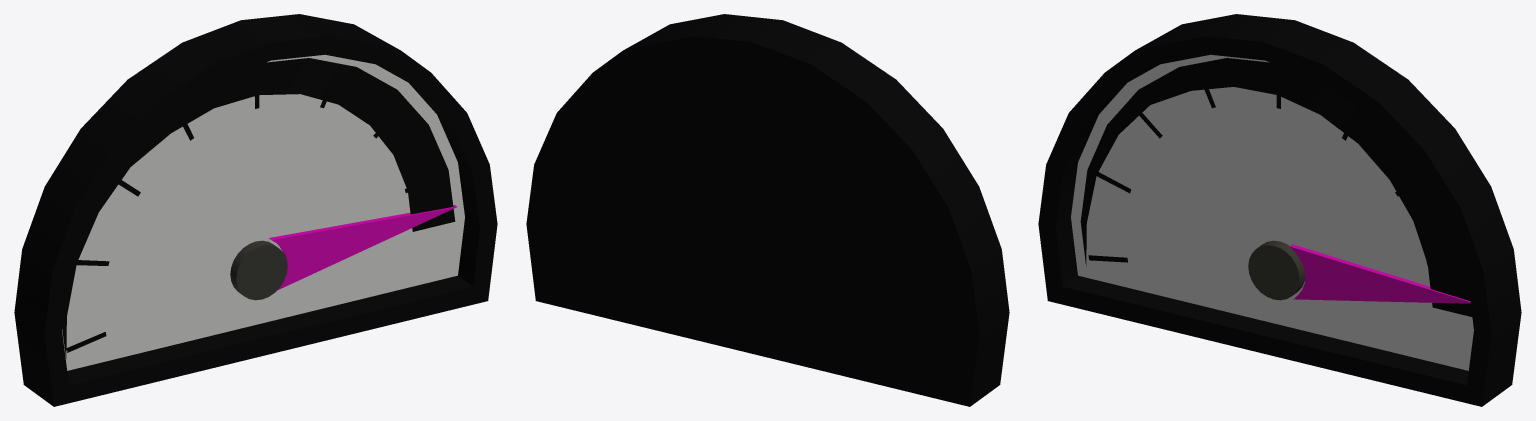
File: item_speedometer.fbx
3 views of the same model, side by side, from view 1: azimuth 30°, elevation 25°; view 2: azimuth 150°, elevation 25°; view 3: azimuth 330°, elevation 25° (orthographic).
Parts seen in each view (by area): view 1: item_speedometer; view 2: item_speedometer; view 3: item_speedometer.
Part boxes in pixels (x1,y1,x2,y2): item_speedometer: (14, 14, 497, 406); item_speedometer: (526, 14, 1009, 406); item_speedometer: (1038, 14, 1521, 406).
Size of the model in its own units: 1.94 by 1.28 by 0.2238.
